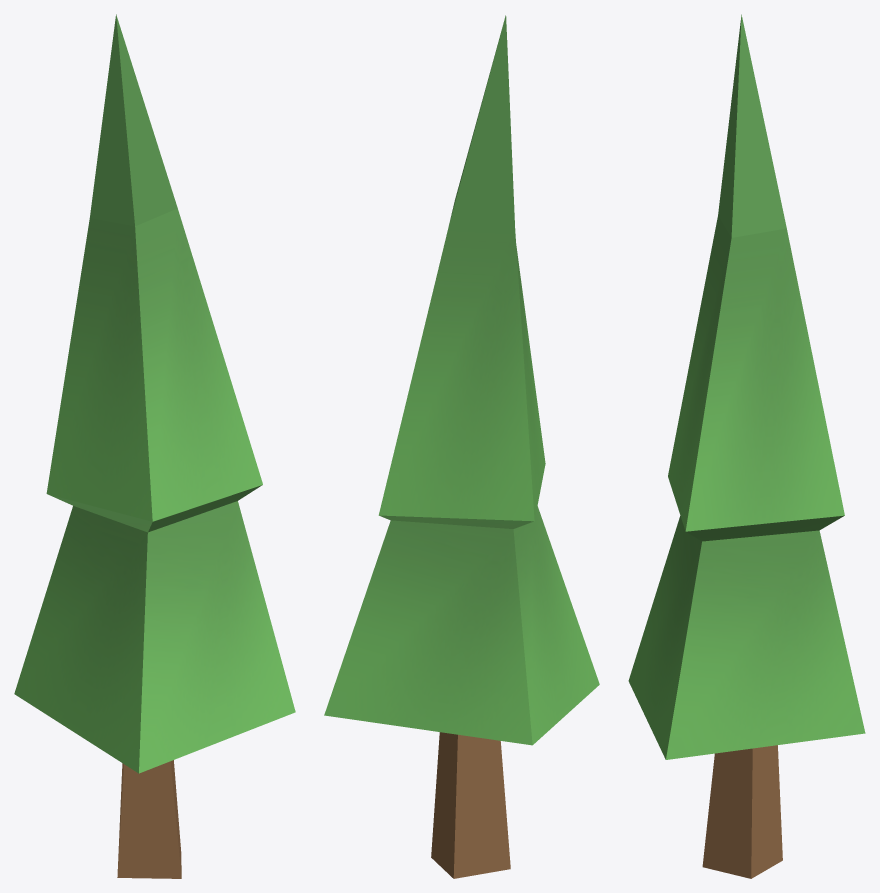
Rendered from Fir_Tree_s_08.fbx.
The picture shows the model from 3 angles, left to right: view 1: azimuth 30°, elevation 25°; view 2: azimuth 150°, elevation 25°; view 3: azimuth 270°, elevation 25°; orthographic projection. The views are drawn at different scales.
Visible parts, largest first — view 1: Fir_Tree_s_08; view 2: Fir_Tree_s_08; view 3: Fir_Tree_s_08.
Boxes of the visible parts, x1,y1,x2,y2 form: Fir_Tree_s_08: [14, 14, 295, 878]; Fir_Tree_s_08: [324, 15, 599, 878]; Fir_Tree_s_08: [628, 14, 865, 878].
Bounding box in the file's own units: 37.08 × 149 × 38.49.
